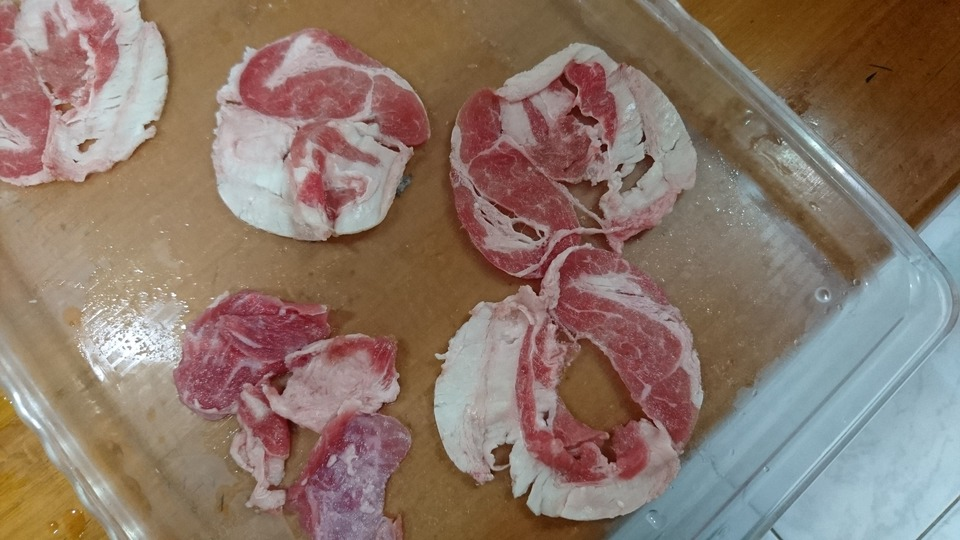restructured meat: (433, 261, 709, 519), (163, 273, 416, 540), (447, 36, 702, 273), (215, 20, 431, 246), (6, 7, 178, 189)
